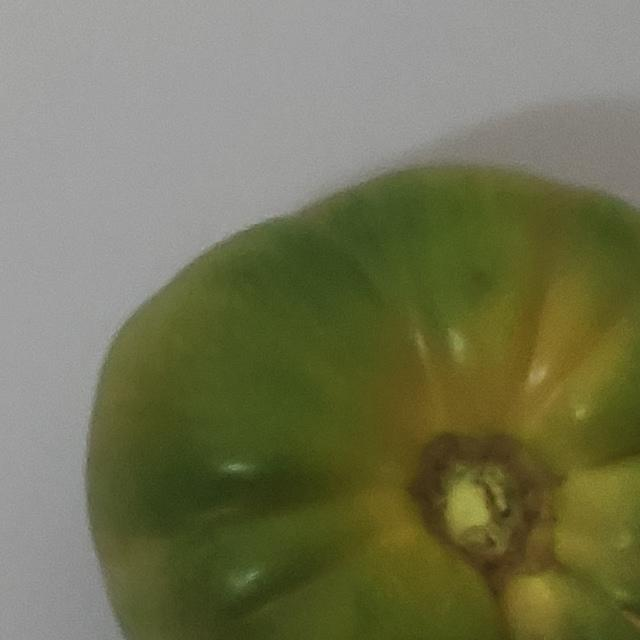tomato: (38, 84, 640, 640)
